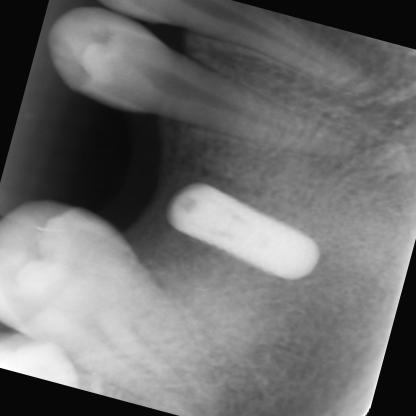ITI: (148, 168, 336, 300)
